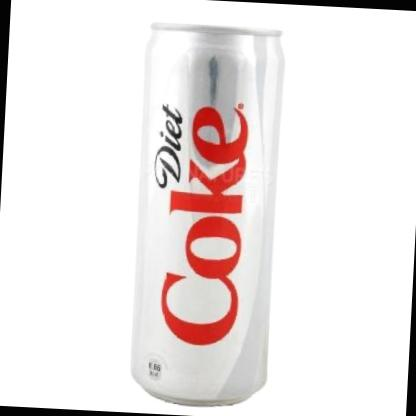alumunium_can: (124, 17, 286, 410)
